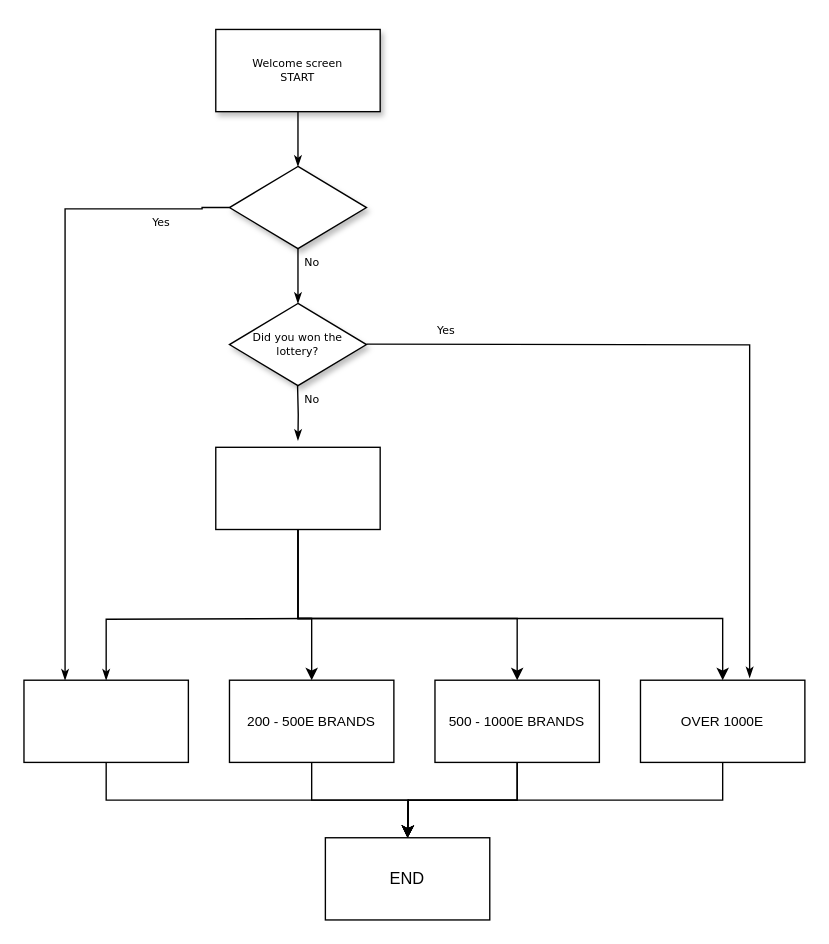
Image size: 829x944. Some labels were removed from this diagram. The centre of each missing label's shape, as x and y in pixels:
Are you a begginer ?: point 299,209
Choose a budget Under 200 200-500 500-1000 Over 1000: point 297,488
UNDER 200E BRANDS: point 105,720
